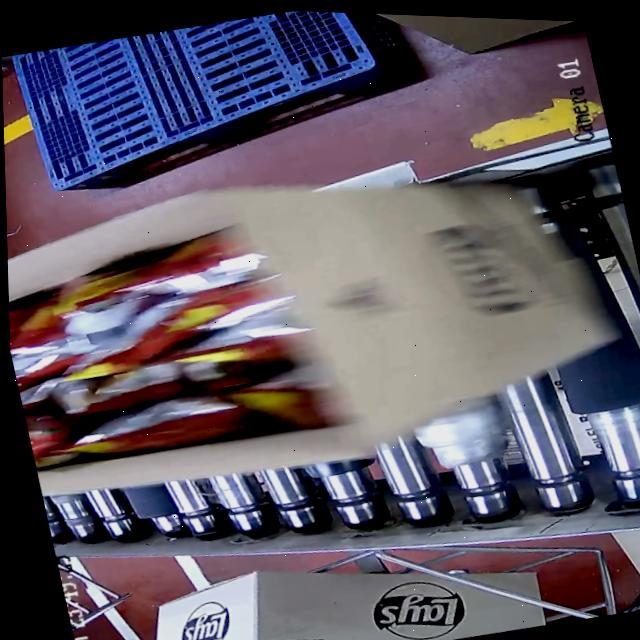MASALA: (7, 245, 334, 480)
